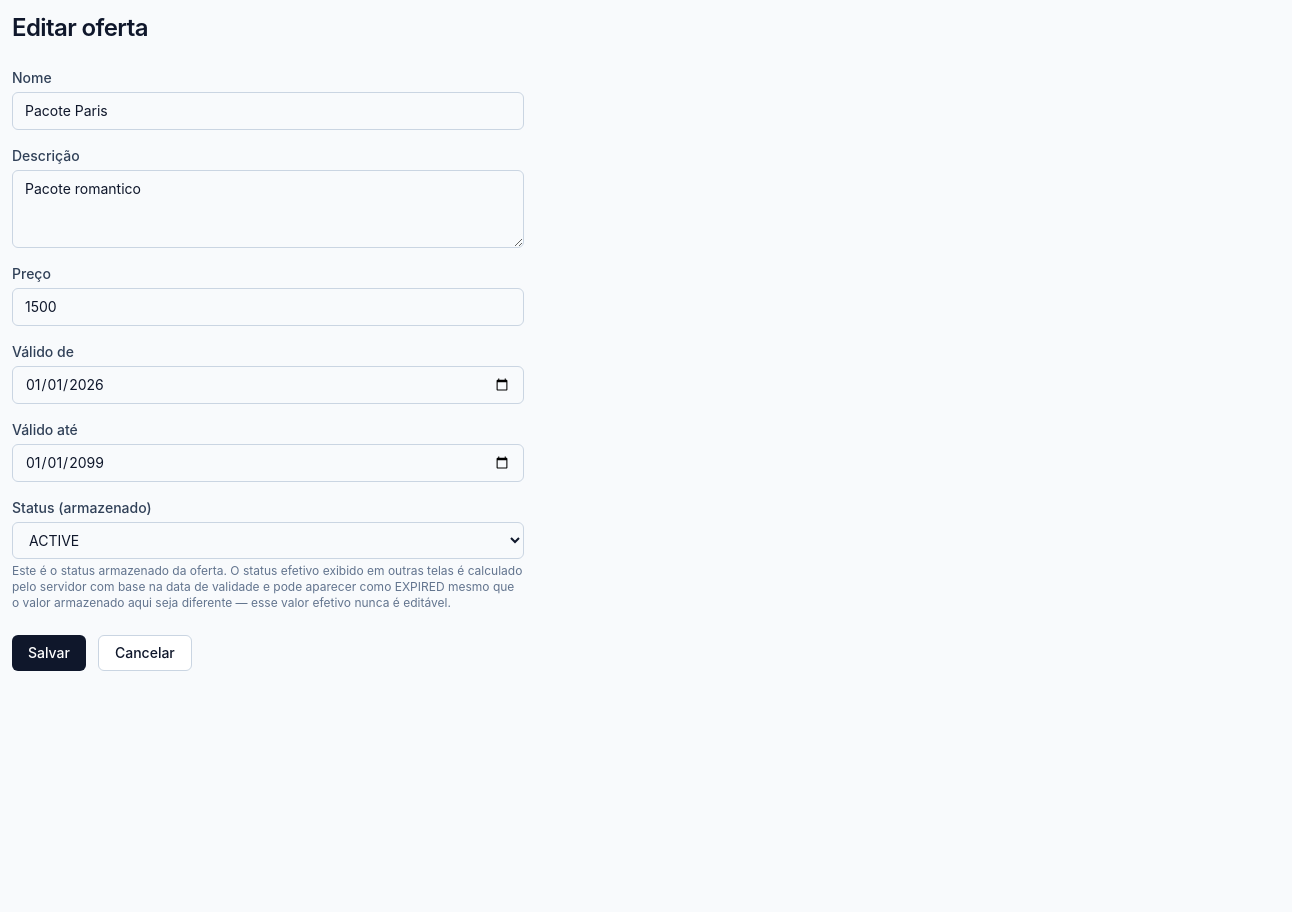
Test: OfferEditPage › missing name shows validation error and does not submit
The width and height of the screenshot is (1292, 912).
Clear the field labelled "Nome" at (268, 111), box top-left (12, 92), bottom-right (524, 130)
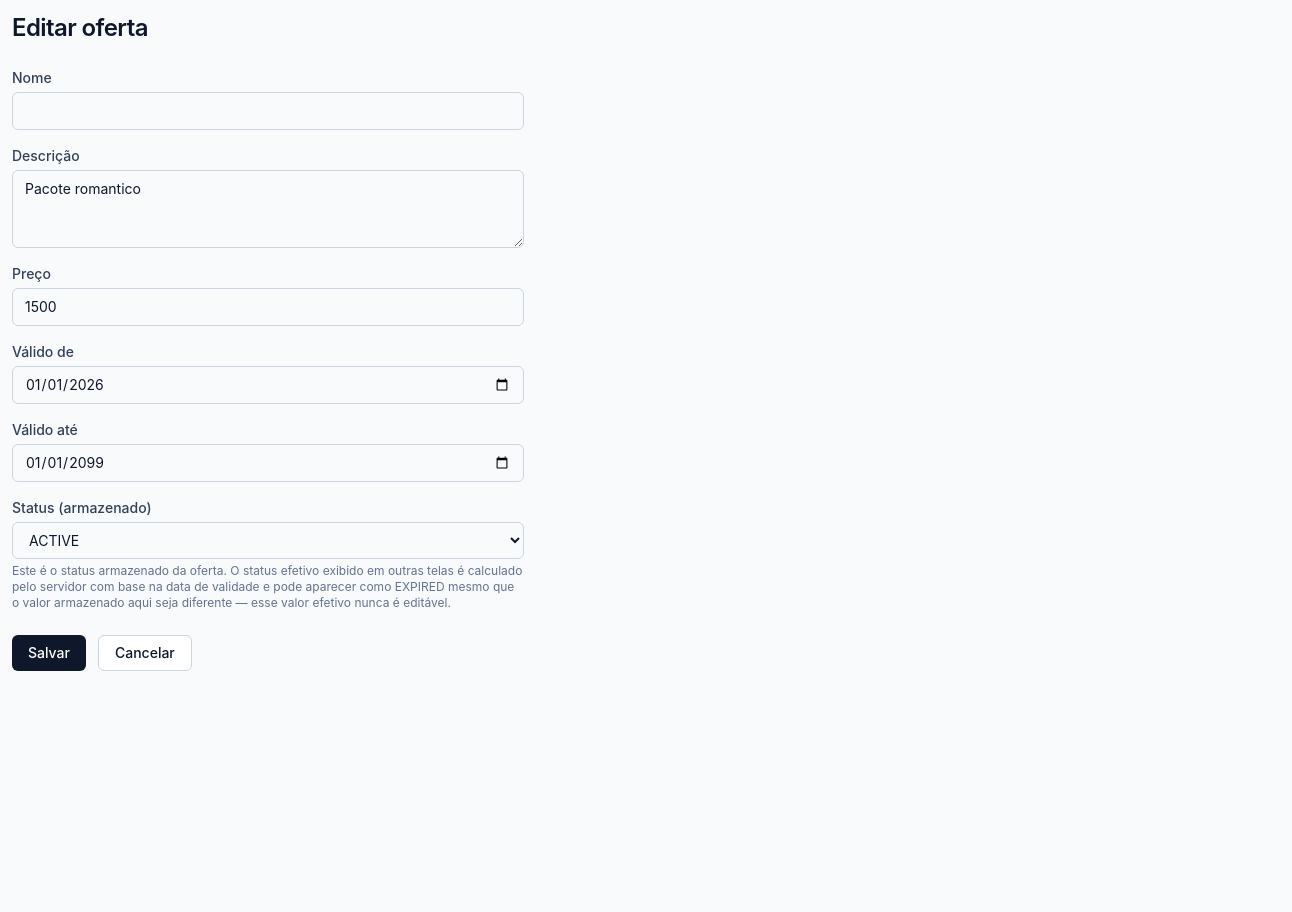
Click the button "Salvar" at (49, 653), box top-left (12, 635), bottom-right (86, 671)
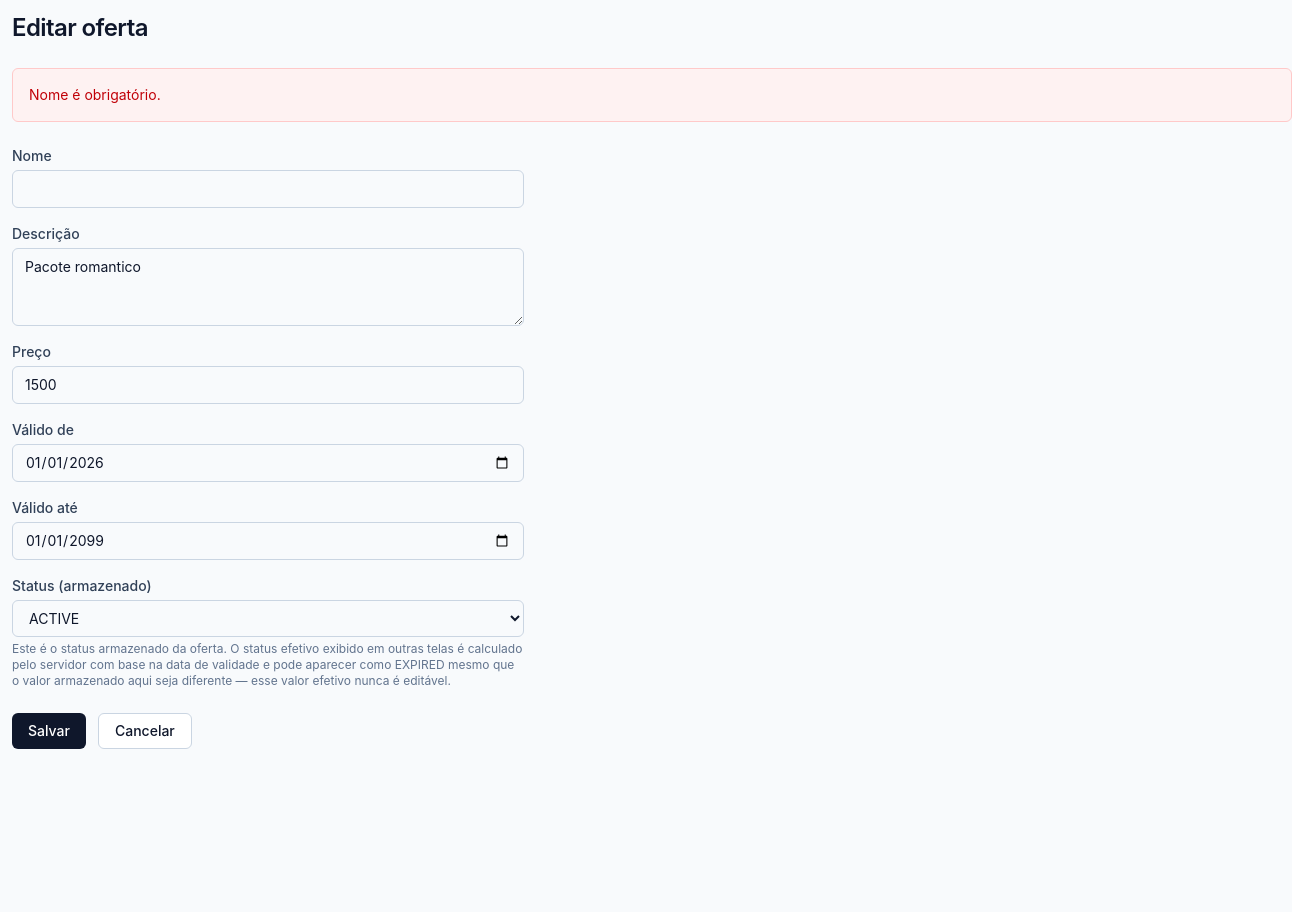
expect the text "Nome é obrigatório." is shown: met, box top-left (12, 68), bottom-right (1291, 122)
